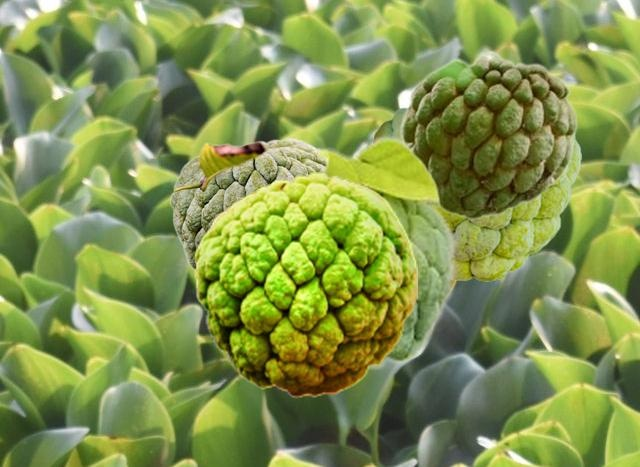atis: (193, 171, 416, 397), (286, 134, 458, 370), (370, 105, 580, 280), (398, 49, 577, 219), (169, 137, 318, 269)
